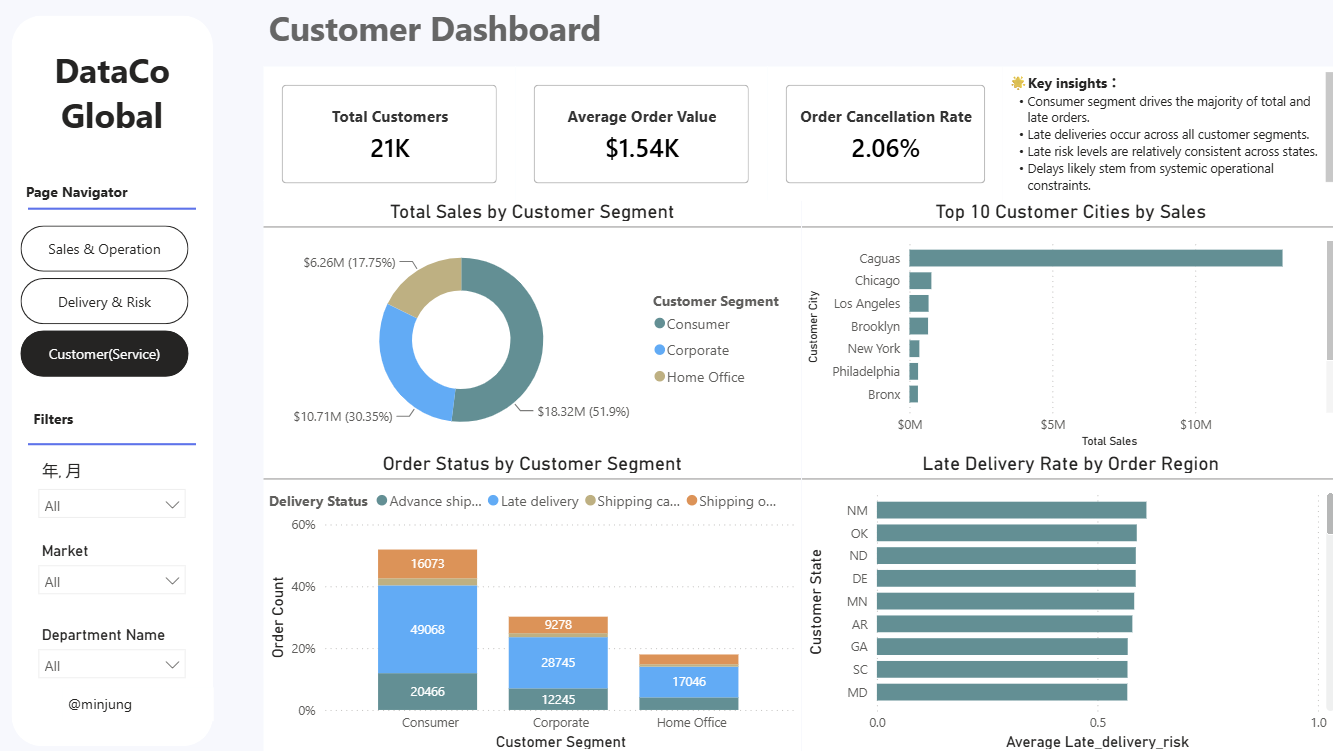

The page's visual inventory and layout, read from the dashboard file:
{"tool":"powerbi","page":{"name":"Customer(Service)","canvas":[1280,720],"ordinal":2},"visuals":[{"type":"shape","box":[16,16,192,696],"z":0},{"type":"donutChart","title":"Total Sales by Customer Segment","fields":{"Category":["modified data.Customer Segment"],"Y":["modified data.Total Sales"]},"box":[256,192,512,240],"z":1000},{"type":"textbox","box":[24,168,128,32],"z":2000},{"type":"shape","box":[32,176,160,48],"z":3000},{"type":"shape","box":[32,400,160,48],"z":4000},{"type":"textbox","box":[32,384,128,32],"z":5000},{"type":"textbox","box":[32,40,160,104],"z":6000},{"type":"textbox","box":[64,656,144,32],"z":7000},{"type":"cardVisual","fields":{"Data":["modified data.訂單取消率"]},"box":[736,64,224,128],"z":8000},{"type":"cardVisual","fields":{"Data":["modified data.平均客單價"]},"box":[496,64,240,128],"z":9000},{"type":"slicer","fields":{"Values":["modified data.Market"]},"box":[32,512,160,64],"z":10000},{"type":"textbox","box":[256,0,464,64],"z":11000},{"type":"slicer","fields":{"Values":["Date Table.Date.變化.日期階層.年","Date Table.Date.變化.日期階層.月"]},"box":[32,432,160,80],"z":12000},{"type":"slicer","fields":{"Values":["modified data.Department Name"]},"box":[32,592,160,64],"z":13000},{"type":"cardVisual","fields":{"Data":["modified data.總客戶數"]},"box":[256,64,240,128],"z":14000},{"type":"clusteredBarChart","title":"Late Delivery Rate by Order Region","fields":{"Category":["modified data.Customer State"],"Y":["Avg(modified data.Late_delivery_risk)"]},"box":[768,432,512,288],"z":15000},{"type":"clusteredBarChart","title":"Top 10 Customer Cities by Sales","fields":{"Category":["modified data.Customer City"],"Y":["modified data.Total Sales"]},"box":[768,192,512,240],"z":16000},{"type":"columnChart","title":"Order Status by Customer Segment","fields":{"Category":["modified data.Customer Segment"],"Y":["CountNonNull(modified data.Order Id)"],"Series":["modified data.Delivery Status"]},"box":[256,432,512,288],"z":17000},{"type":"pageNavigator","box":[24,216,160,144],"z":18000},{"type":"textbox","box":[960,64,320,128],"z":19000}]}

Visuals, with their boxes in screenshot pixels (x1, y1, x2, y2), scaled from the page's 1280x720 canvas onto the 1333x751 screenshot:
shape: box(17, 17, 217, 743)
"Total Sales by Customer Segment" donutChart: box(267, 200, 800, 451)
textbox: box(25, 175, 158, 209)
shape: box(33, 184, 200, 234)
shape: box(33, 417, 200, 467)
textbox: box(33, 401, 167, 434)
textbox: box(33, 42, 200, 150)
textbox: box(67, 684, 217, 718)
cardVisual - modified data.訂單取消率: box(766, 67, 1000, 200)
cardVisual - modified data.平均客單價: box(517, 67, 766, 200)
slicer - modified data.Market: box(33, 534, 200, 601)
textbox: box(267, 0, 750, 67)
slicer - Date Table.Date.變化.日期階層.年 x Date Table.Date.變化.日期階層.月: box(33, 451, 200, 534)
slicer - modified data.Department Name: box(33, 617, 200, 684)
cardVisual - modified data.總客戶數: box(267, 67, 517, 200)
"Late Delivery Rate by Order Region" clusteredBarChart: box(800, 451, 1332, 750)
"Top 10 Customer Cities by Sales" clusteredBarChart: box(800, 200, 1332, 451)
"Order Status by Customer Segment" columnChart: box(267, 451, 800, 750)
pageNavigator: box(25, 225, 192, 376)
textbox: box(1000, 67, 1332, 200)
